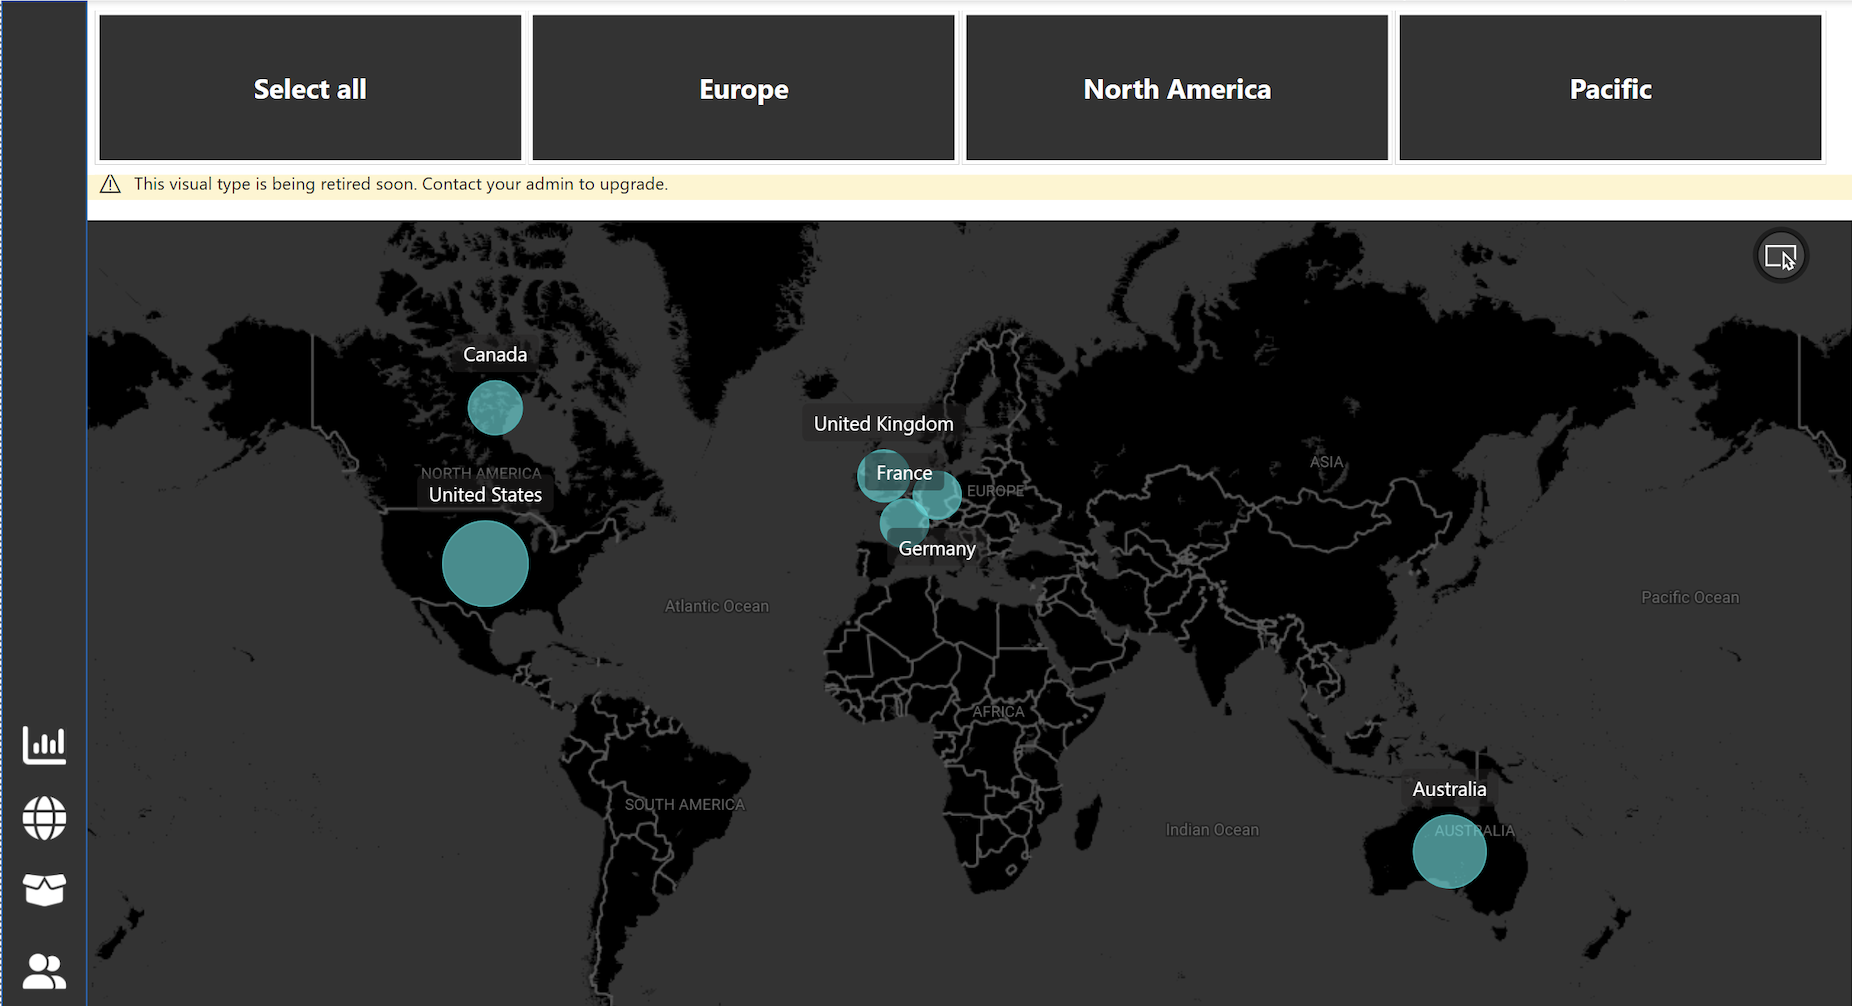

The page's visual inventory and layout, read from the dashboard file:
{"tool":"powerbi","page":{"name":"Map","canvas":[1280,720],"ordinal":2},"visuals":[{"type":"map","title":"Total Orders of Country  by  Region","fields":{"Category":["Territory Lookup.Country"],"Size":["Mesure Table.Total Orders"]},"box":[50.1,108.1,1230.3,611.9],"z":0},{"type":"slicer","fields":{"Values":["Territory Lookup.Continent"]},"box":[38.2,0,1242.2,120],"z":1000},{"type":"actionButton","box":[10.5,490.5,38.2,44.8],"z":1000,"group":"g1"},{"type":"shape","title":"Left Nav Background","box":[0,0,59.3,720],"z":2000},{"type":"actionButton","box":[10.5,535.3,38.2,55.4],"z":2000,"group":"g1"},{"type":"group","id":"g1","title":"Navigation buttons","box":[10.5,490.5,38.2,200.4],"z":3000},{"type":"actionButton","box":[10.5,590.7,38.2,44.8],"z":3000,"group":"g1"},{"type":"actionButton","box":[10.5,646.1,38.2,44.8],"z":4000,"group":"g1"}]}

Visuals, with their boxes on the page's 1280x720 design canvas (x1, y1, x2, y2). These are canvas units, not pixel positions in the 1852x1006 screenshot, which may show the page scaled, cropped or inside an application window:
"Total Orders of Country  by  Region" map: box(50, 108, 1280, 720)
slicer - Territory Lookup.Continent: box(38, 0, 1280, 120)
actionButton: box(10, 490, 49, 535)
"Left Nav Background" shape: box(0, 0, 59, 720)
actionButton: box(10, 535, 49, 591)
"Navigation buttons" group: box(10, 490, 49, 691)
actionButton: box(10, 591, 49, 636)
actionButton: box(10, 646, 49, 691)
